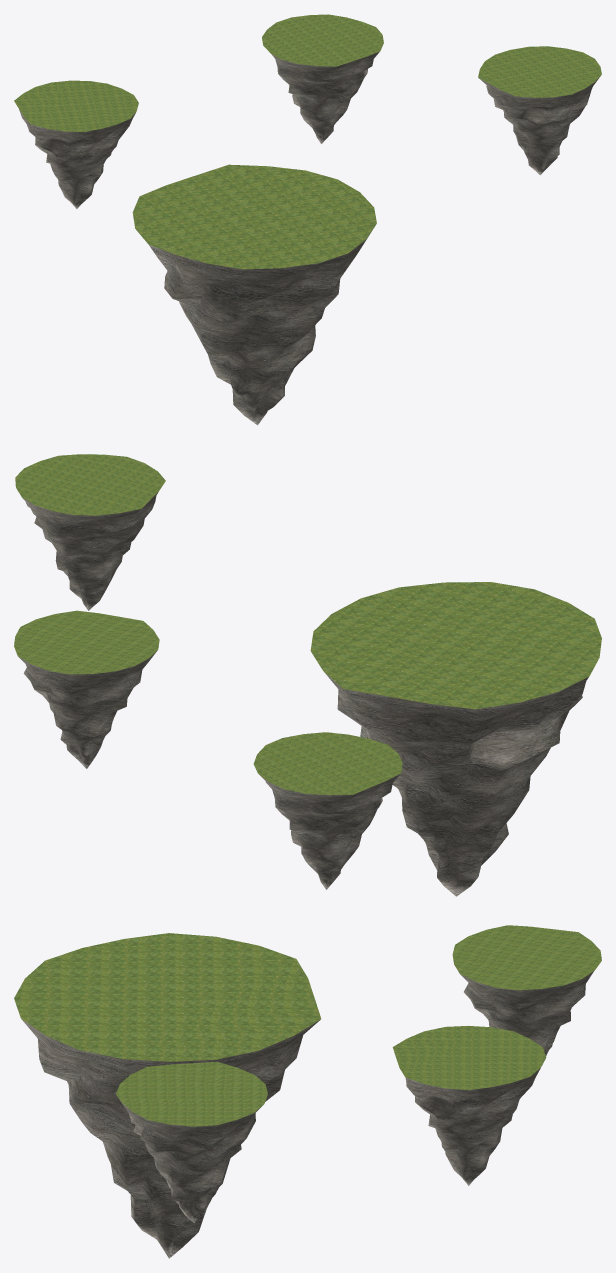
Rendered from Sky Island.fbx.
The picture shows the model from 3 angles, top to bottom: view 1: azimuth 30°, elevation 25°; view 2: azimuth 150°, elevation 25°; view 3: azimuth 270°, elevation 25°; orthographic projection. The views are drawn at different scales.
Parts seen in each view (by area): view 1: pCone4, pCone1, pCone2, pCone3; view 2: pCone4, pCone3, pCone1, pCone2; view 3: pCone4, pCone1, pCone2, pCone3.
Part boxes in pixels (x1,y1,x2,y2): pCone4: (132, 164, 376, 425); pCone1: (478, 46, 601, 175); pCone2: (262, 14, 383, 143); pCone3: (14, 80, 138, 208); pCone4: (310, 582, 601, 896); pCone3: (253, 732, 402, 889); pCone1: (15, 454, 165, 610); pCone2: (14, 610, 159, 768); pCone4: (14, 933, 321, 1258); pCone1: (116, 1061, 267, 1223); pCone2: (392, 1025, 546, 1185); pCone3: (452, 925, 601, 1055).
Size of the model in its own units: 6976 by 4022 by 6254.
